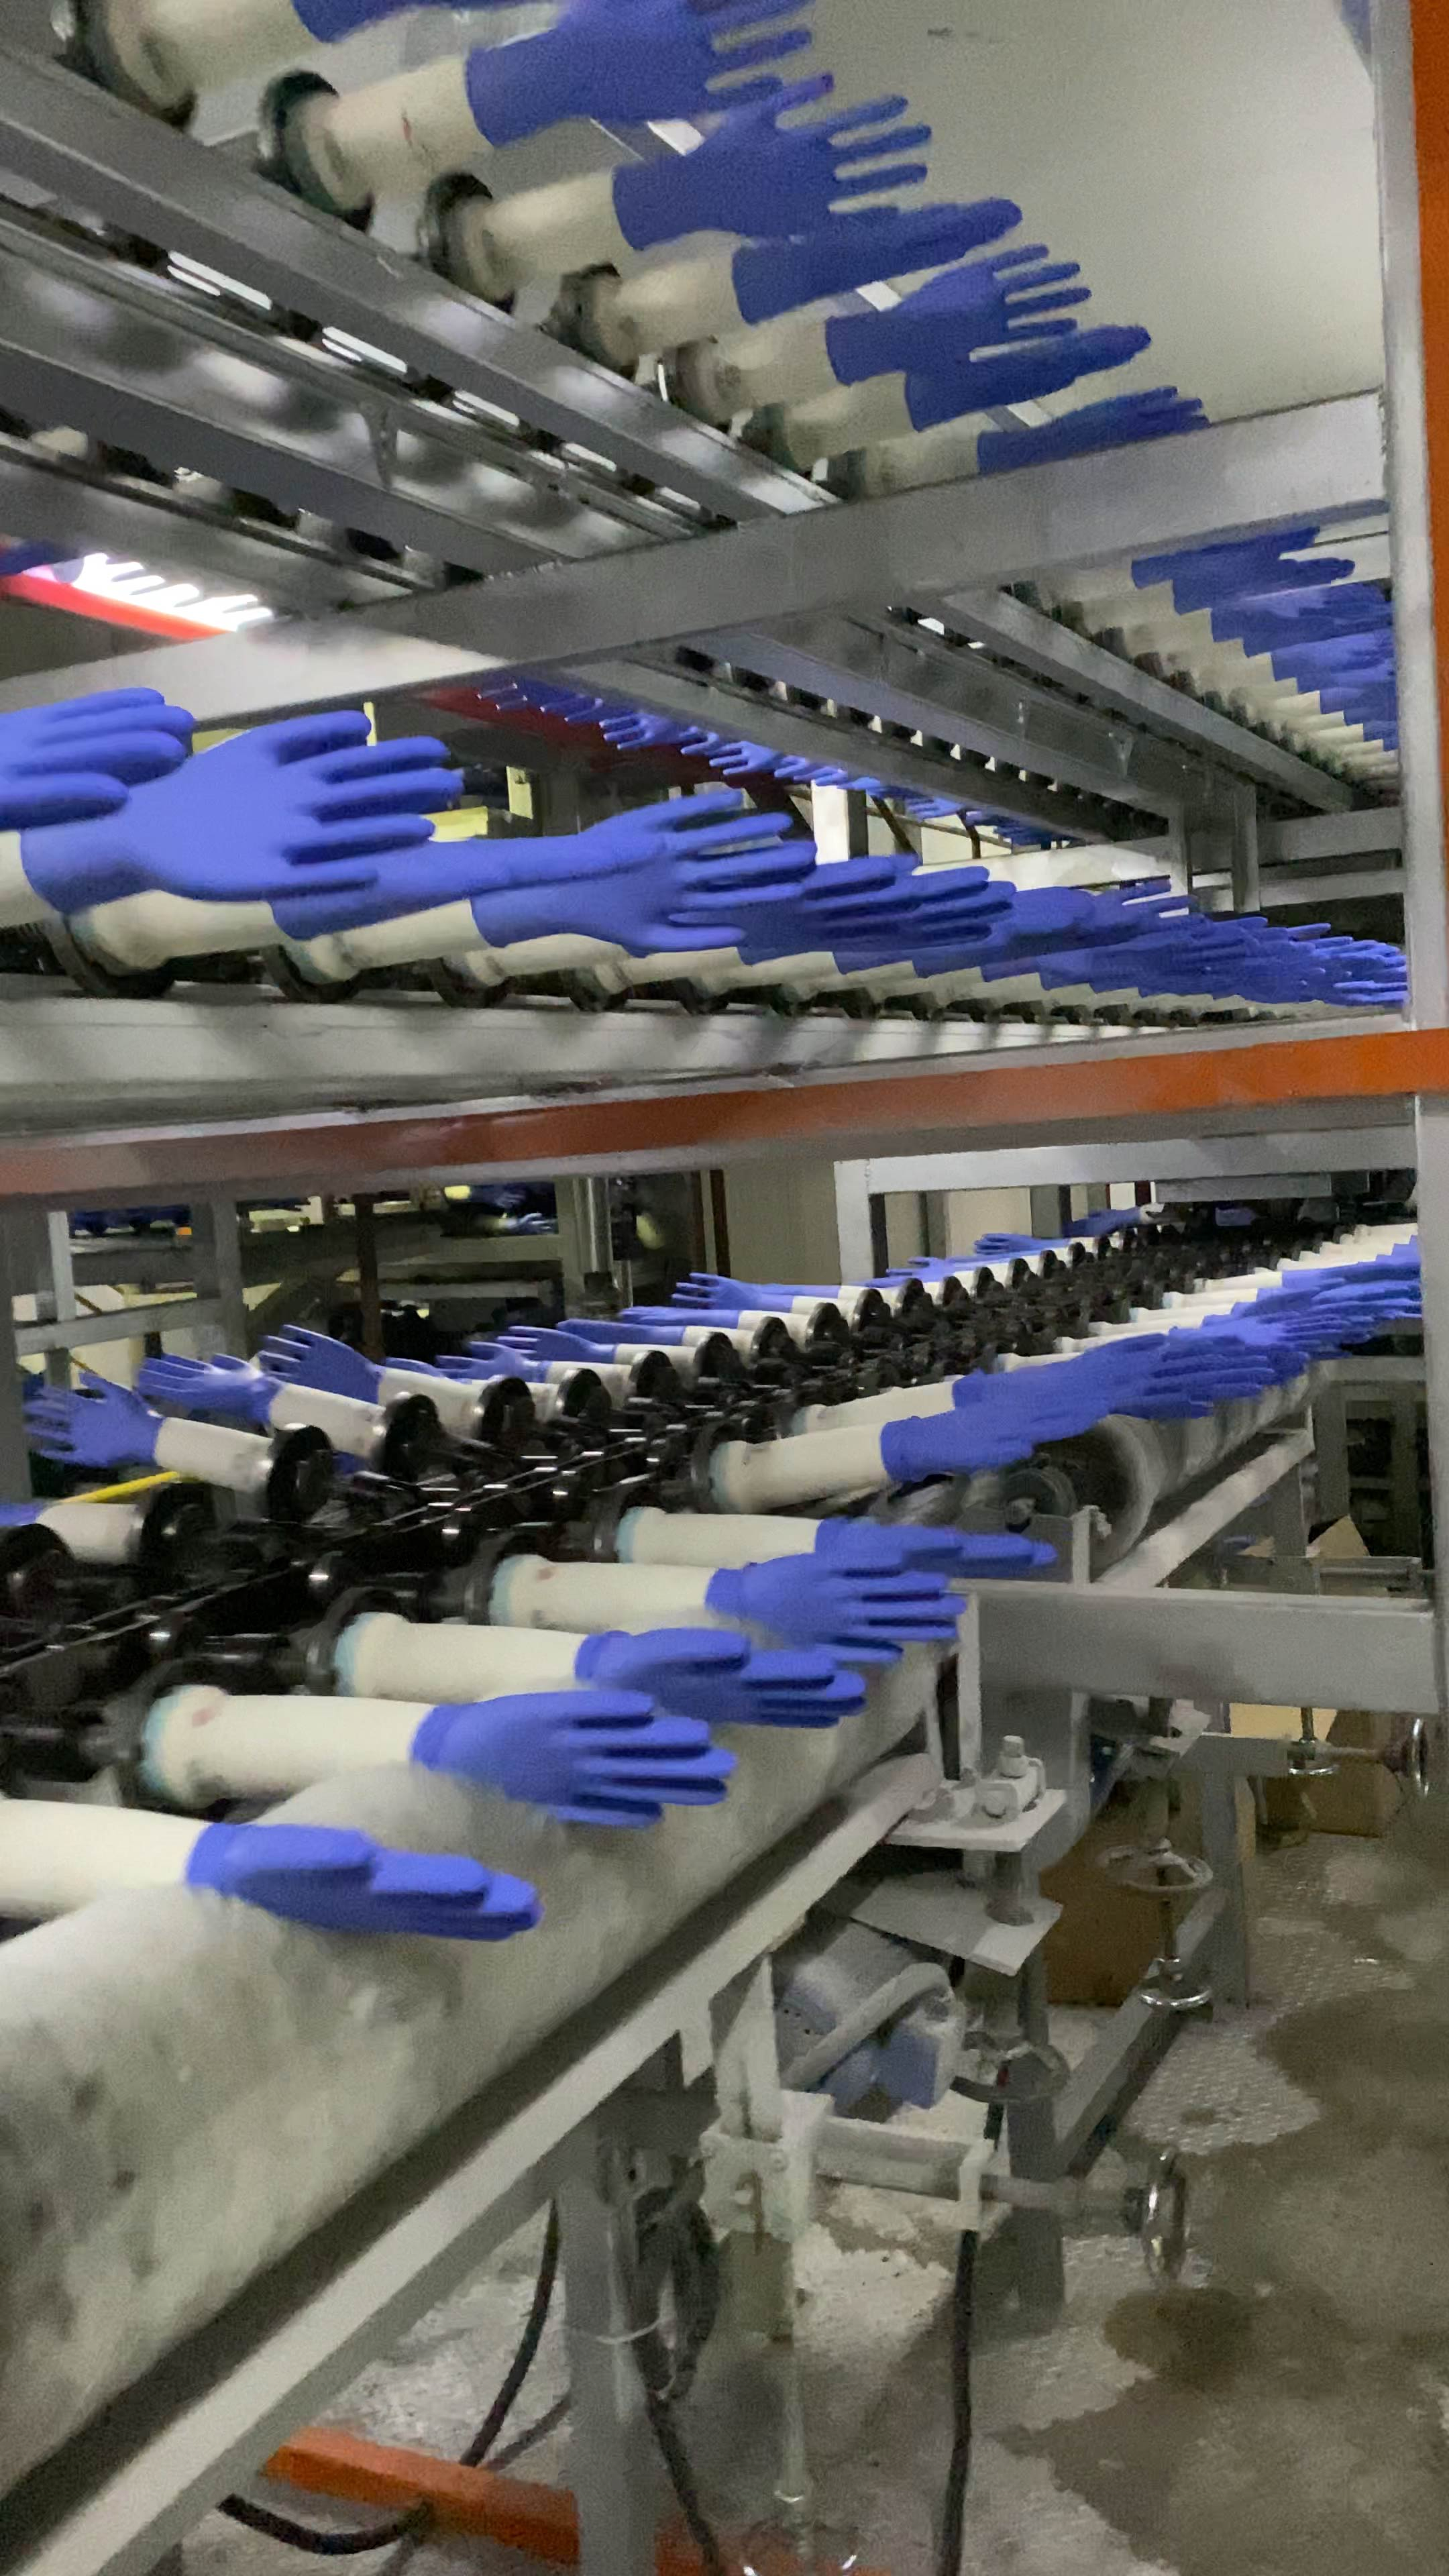glove: (21, 711, 460, 902), (474, 791, 812, 950), (616, 81, 931, 241), (467, 4, 810, 138), (421, 1688, 727, 1826), (188, 1826, 541, 1943), (281, 835, 663, 936), (828, 246, 1092, 368), (731, 200, 1021, 310), (577, 1629, 863, 1730), (738, 858, 1014, 962), (708, 1553, 962, 1663), (0, 686, 191, 824), (959, 1338, 1270, 1419), (984, 885, 1201, 980), (906, 327, 1143, 414), (885, 1398, 1106, 1474), (980, 389, 1207, 460), (816, 1518, 1054, 1580), (913, 890, 1092, 971), (25, 1371, 166, 1468), (1049, 918, 1246, 984), (1141, 925, 1292, 1000), (1283, 920, 1408, 1008), (138, 1353, 276, 1426), (1214, 587, 1394, 640), (262, 1327, 380, 1407), (1284, 1267, 1424, 1327), (1171, 561, 1350, 603), (1194, 1313, 1350, 1361), (1134, 533, 1316, 573), (499, 1323, 616, 1369), (671, 1272, 791, 1316), (1246, 619, 1408, 651), (1272, 637, 1401, 676), (435, 1341, 541, 1382), (566, 1318, 686, 1350), (621, 1307, 745, 1334), (885, 1256, 987, 1279), (975, 1235, 1069, 1258)
